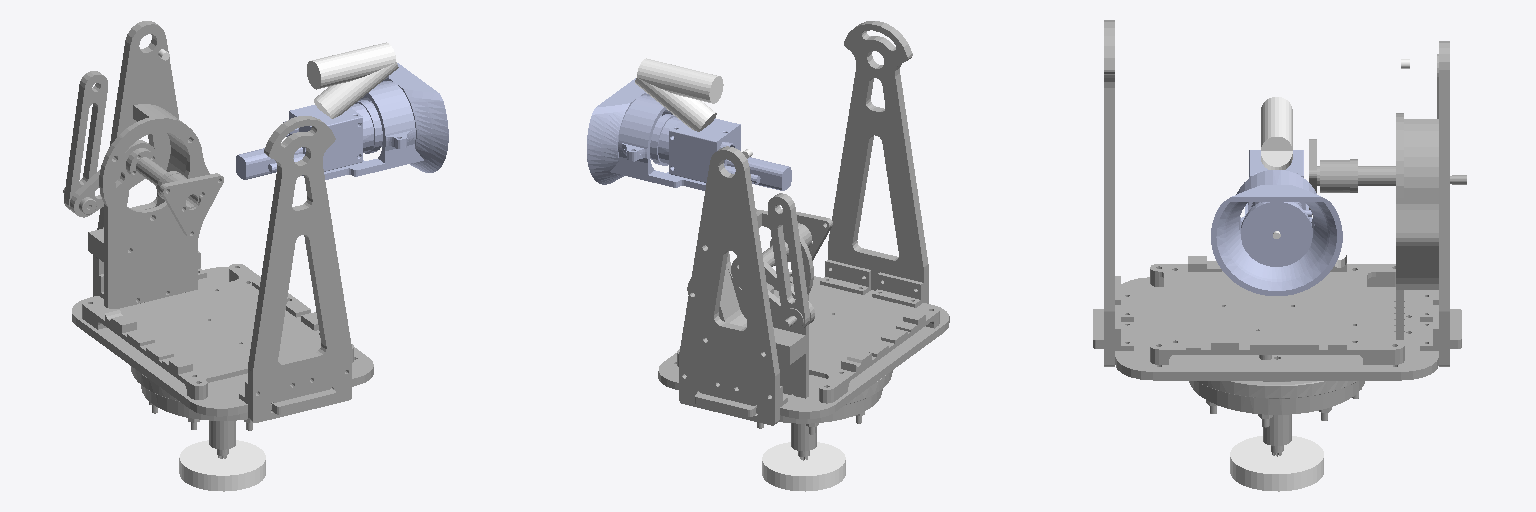
URDF robot description (infantry_description):
<?xml version="1.0" encoding="utf-8"?>
<!-- This URDF was automatically created by SolidWorks to URDF Exporter! Originally created by [author] ([email redacted]) 
     Commit Version: 1.6.0-4-g7f85cfe  Build Version: 1.6.7995.38578
     For more information, please see http://wiki.ros.org/sw_urdf_exporter -->
<robot
  name="infantry_description">
  <link
    name="base_link">
    <inertial>
      <origin
        xyz="0.000173024874217081 0.000258930504932274 -0.0050000000000001"
        rpy="0 0 0" />
      <mass
        value="0.0196349540849362" />
      <inertia
        ixx="3.23158619314575E-06"
        ixy="4.2351647362715E-22"
        ixz="4.95120013580339E-25"
        iyy="3.23158619314575E-06"
        iyz="-2.59747643424031E-23"
        izz="6.13592315154256E-06" />
    </inertial>
    <visual>
      <origin
        xyz="0 0 0"
        rpy="0 0 0" />
      <geometry>
        <mesh
          filename="package://infantry_description/meshes/base_link.STL" />
      </geometry>
      <material
        name="">
        <color
          rgba="1 1 1 1" />
      </material>
    </visual>
    <collision>
      <origin
        xyz="0 0 0"
        rpy="0 0 0" />
      <geometry>
        <mesh
          filename="package://infantry_description/meshes/base_link.STL" />
      </geometry>
    </collision>
  </link>
  <link
    name="yaw_link">
    <inertial>
      <origin
        xyz="-0.00172210557148572 0.0108085866068817 0.0899542602252959"
        rpy="0 0 0" />
      <mass
        value="0.855608991793916" />
      <inertia
        ixx="0.00133927971552095"
        ixy="-9.84192545029226E-07"
        ixz="-8.77835854238758E-06"
        iyy="0.00109313889037699"
        iyz="3.74510792532366E-07"
        izz="0.00144065438236482" />
    </inertial>
    <visual>
      <origin
        xyz="0 0 0"
        rpy="0 0 0" />
      <geometry>
        <mesh
          filename="package://infantry_description/meshes/yaw_link.STL" />
      </geometry>
      <material
        name="">
        <color
          rgba="0.752941176470588 0.752941176470588 0.752941176470588 1" />
      </material>
    </visual>
    <collision>
      <origin
        xyz="0 0 0"
        rpy="0 0 0" />
      <geometry>
        <mesh
          filename="package://infantry_description/meshes/yaw_link.STL" />
      </geometry>
    </collision>
  </link>
  <joint
    name="yaw_joint"
    type="continuous">
    <origin
      xyz="0 0 0"
      rpy="0 0 0" />
    <parent
      link="base_link" />
    <child
      link="yaw_link" />
    <axis
      xyz="0 0 1" />
  </joint>
  <link
    name="pitch_link">
    <inertial>
      <origin
        xyz="0.0125972786957216 -0.00171573226333506 0.0173688401049751"
        rpy="0 0 0" />
      <mass
        value="1.99951875338323" />
      <inertia
        ixx="0.00120986238919901"
        ixy="-2.19790457213519E-06"
        ixz="3.63392530069574E-05"
        iyy="0.00171944132814883"
        iyz="-4.15999763778092E-06"
        izz="0.00248517649548466" />
    </inertial>
    <visual>
      <origin
        xyz="0 0 0"
        rpy="0 0 0" />
      <geometry>
        <mesh
          filename="package://infantry_description/meshes/pitch_link.STL" />
      </geometry>
      <material
        name="">
        <color
          rgba="0.752941176470588 0.752941176470588 0.752941176470588 1" />
      </material>
    </visual>
    <collision>
      <origin
        xyz="0 0 0"
        rpy="0 0 0" />
      <geometry>
        <mesh
          filename="package://infantry_description/meshes/pitch_link.STL" />
      </geometry>
    </collision>
  </link>
  <joint
    name="pitch_joint"
    type="revolute">
    <origin
      xyz="0.00017302 5.8931E-05 0.22842"
      rpy="0 0 0" />
    <parent
      link="yaw_link" />
    <child
      link="pitch_link" />
    <axis
      xyz="0 1 0" />
    <limit
      lower="-0.5"
      upper="0.5"
      effort="0"
      velocity="0" />
  </joint>
  <link
    name="camera_link">
    <inertial>
      <origin
        xyz="-0.0385708844371488 1.92836682675387E-05 -0.00189049651727297"
        rpy="0 0 0" />
      <mass
        value="0.0899033244570677" />
      <inertia
        ixx="1.69655468991881E-05"
        ixy="3.16543535424915E-08"
        ixz="-2.30548045352218E-06"
        iyy="6.54882247890451E-05"
        iyz="-7.27139706319313E-09"
        izz="7.19171948344602E-05" />
    </inertial>
    <visual>
      <origin
        xyz="0 0 0"
        rpy="0 0 0" />
      <geometry>
        <mesh
          filename="package://infantry_description/meshes/camera_link.STL" />
      </geometry>
      <material
        name="">
        <color
          rgba="0.792156862745098 0.819607843137255 0.933333333333333 1" />
      </material>
    </visual>
    <collision>
      <origin
        xyz="0 0 0"
        rpy="0 0 0" />
      <geometry>
        <mesh
          filename="package://infantry_description/meshes/camera_link.STL" />
      </geometry>
    </collision>
  </link>
  <joint
    name="camera_joint"
    type="fixed">
    <origin
      xyz="0.1273 0 -0.0404"
      rpy="0 0 0" />
    <parent
      link="pitch_link" />
    <child
      link="camera_link" />
    <axis
      xyz="0 0 0" />
  </joint>
  <link
    name="camera_optical_link">
    <inertial>
      <origin
        xyz="-1.73472347597681E-17 2.31586277932294E-11 0.00100000000000011"
        rpy="0 0 0" />
      <mass
        value="2.51327412287184E-05" />
      <inertia
        ixx="3.35103216382912E-11"
        ixy="-1.61558713389263E-27"
        ixz="-3.87740912134232E-26"
        iyy="3.35103216382912E-11"
        iyz="3.88021307782635E-19"
        izz="5.02654824574367E-11" />
    </inertial>
    <visual>
      <origin
        xyz="0 0 0"
        rpy="0 0 0" />
      <geometry>
        <mesh
          filename="package://infantry_description/meshes/camera_optical_link.STL" />
      </geometry>
      <material
        name="">
        <color
          rgba="1 1 1 1" />
      </material>
    </visual>
    <collision>
      <origin
        xyz="0 0 0"
        rpy="0 0 0" />
      <geometry>
        <mesh
          filename="package://infantry_description/meshes/camera_optical_link.STL" />
      </geometry>
    </collision>
  </link>
  <joint
    name="camera_optical_joint"
    type="fixed">
    <origin
      xyz="0 0 0"
      rpy="-1.5708 0 -1.5708" />
    <parent
      link="camera_link" />
    <child
      link="camera_optical_link" />
    <axis
      xyz="0 0 0" />
  </joint>
  <link
    name="shoot_pitch_link">
    <inertial>
      <origin
        xyz="-0.0250000003417048 -1.35557164625266E-09 -1.69748615164167E-09"
        rpy="0 0 0" />
      <mass
        value="0.0113490034610931" />
      <inertia
        ixx="4.0998275003199E-07"
        ixy="-2.24066684328364E-20"
        ixz="4.77586553146865E-14"
        iyy="2.56936709607706E-06"
        iyz="-5.29395592033938E-23"
        izz="2.56936709607706E-06" />
    </inertial>
    <visual>
      <origin
        xyz="0 0 0"
        rpy="0 0 0" />
      <geometry>
        <mesh
          filename="package://infantry_description/meshes/shoot_pitch_link.STL" />
      </geometry>
      <material
        name="">
        <color
          rgba="1 1 1 1" />
      </material>
    </visual>
    <collision>
      <origin
        xyz="0 0 0"
        rpy="0 0 0" />
      <geometry>
        <mesh
          filename="package://infantry_description/meshes/shoot_pitch_link.STL" />
      </geometry>
    </collision>
  </link>
  <joint
    name="shoot_pitch_joint"
    type="fixed">
    <origin
      xyz="0.1105 0 0.00055"
      rpy="0 0 0" />
    <parent
      link="pitch_link" />
    <child
      link="shoot_pitch_link" />
    <axis
      xyz="0 0 0" />
  </joint>
  <link
    name="shoot_yaw_link">
    <inertial>
      <origin
        xyz="-0.0219342742639877 -1.35557184401114E-09 -0.0119953169861161"
        rpy="0 0 0" />
      <mass
        value="0.0113490034610931" />
      <inertia
        ixx="9.07116484692178E-07"
        ixy="-1.89788319744167E-20"
        ixz="-9.09043923239658E-07"
        iyy="2.56936709607706E-06"
        iyz="-1.04798811892223E-20"
        izz="2.07223336141687E-06" />
    </inertial>
    <visual>
      <origin
        xyz="0 0 0"
        rpy="0 0 0" />
      <geometry>
        <mesh
          filename="package://infantry_description/meshes/shoot_yaw_link.STL" />
      </geometry>
      <material
        name="">
        <color
          rgba="1 1 1 1" />
      </material>
    </visual>
    <collision>
      <origin
        xyz="0 0 0"
        rpy="0 0 0" />
      <geometry>
        <mesh
          filename="package://infantry_description/meshes/shoot_yaw_link.STL" />
      </geometry>
    </collision>
  </link>
  <joint
    name="shoot_yaw_joint"
    type="revolute">
    <origin
      xyz="0.1105 0 0.00055"
      rpy="0 0 0" />
    <parent
      link="pitch_link" />
    <child
      link="shoot_yaw_link" />
    <axis
      xyz="0 -1 0" />
    <limit
      lower="-0.5"
      upper="0.5"
      effort="0"
      velocity="0" />
  </joint>
  <link
    name="gimbal_odom">
    <inertial>
      <origin
        xyz="-4.03271041560238E-10 0.0680999986444338 -1.33365540833097E-14"
        rpy="0 0 0" />
      <mass
        value="9.81747704246808E-05" />
      <inertia
        ixx="3.57928850506648E-10"
        ixy="-7.75481824268463E-26"
        ixz="3.05834432706011E-27"
        iyy="3.06796157577127E-10"
        iyz="-1.08229021079631E-26"
        izz="3.57928850506648E-10" />
    </inertial>
    <visual>
      <origin
        xyz="0 0 0"
        rpy="0 0 0" />
      <geometry>
        <mesh
          filename="package://infantry_description/meshes/gimbal_odom.STL" />
      </geometry>
      <material
        name="">
        <color
          rgba="1 1 1 1" />
      </material>
    </visual>
    <collision>
      <origin
        xyz="0 0 0"
        rpy="0 0 0" />
      <geometry>
        <mesh
          filename="package://infantry_description/meshes/gimbal_odom.STL" />
      </geometry>
    </collision>
  </link>
  <joint
    name="gimbal_odom_joint"
    type="fixed">
    <origin
      xyz="0.00017302 5.8931E-05 0.22842"
      rpy="0 0 0" />
    <parent
      link="base_link" />
    <child
      link="gimbal_odom" />
    <axis
      xyz="0 0 0" />
  </joint>
</robot>

--- Facts derived from the render (not from the file) ---
3 views of the same robot in one strip: view 1: azimuth 30°, elevation 25°; view 2: azimuth 150°, elevation 25°; view 3: azimuth 270°, elevation 25° (orthographic).
Robot: infantry_description — 8 links, 7 joints (2 revolute, 1 continuous, 4 fixed); root link base_link; default pose: all joints at 0.
Visible links, largest first — view 1: yaw_link, camera_link, base_link, shoot_pitch_link, shoot_yaw_link; view 2: yaw_link, camera_link, base_link, shoot_pitch_link, shoot_yaw_link; view 3: yaw_link, camera_link, base_link, shoot_pitch_link, shoot_yaw_link.
Boxes of the visible links, x1,y1,x2,y2 form: yaw_link: [63, 21, 373, 458]; camera_link: [236, 63, 448, 179]; base_link: [179, 440, 265, 491]; shoot_pitch_link: [307, 42, 395, 89]; shoot_yaw_link: [314, 62, 398, 118]; yaw_link: [658, 21, 949, 460]; camera_link: [587, 78, 791, 190]; base_link: [762, 442, 845, 491]; shoot_pitch_link: [637, 58, 723, 103]; shoot_yaw_link: [635, 78, 716, 131]; yaw_link: [1093, 20, 1466, 456]; camera_link: [1211, 150, 1342, 295]; base_link: [1230, 436, 1323, 491]; shoot_pitch_link: [1261, 97, 1292, 150]; shoot_yaw_link: [1261, 151, 1292, 169].
Bounding box of the posed robot: 0.1895 × 0.1986 × 0.2612 m (x, y, z).
7 mesh visuals loaded from 8 distinct referenced files (7 binary STL); not drawn: 1 (reference not matched to a file when rendering).